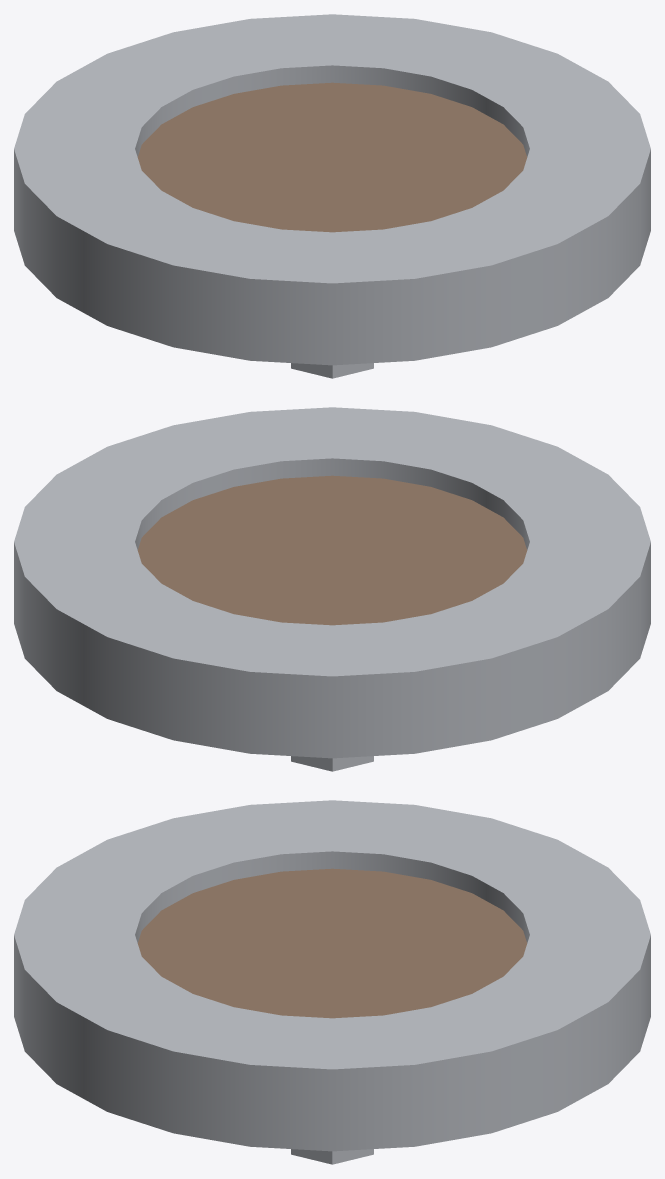
File: magpie.glb
3 renders of one model, top to bottom at view 1: azimuth 30°, elevation 25°; view 2: azimuth 150°, elevation 25°; view 3: azimuth 270°, elevation 25°, orthographic.
Parts seen in each view (by area): view 1: core_magpie; view 2: core_magpie; view 3: core_magpie.
Boxes of the visible parts, x1,y1,x2,y2 form: core_magpie: [14, 14, 650, 378]; core_magpie: [14, 407, 650, 771]; core_magpie: [14, 800, 650, 1164].
Size of the model in its own units: 20 by 4.84 by 20.
